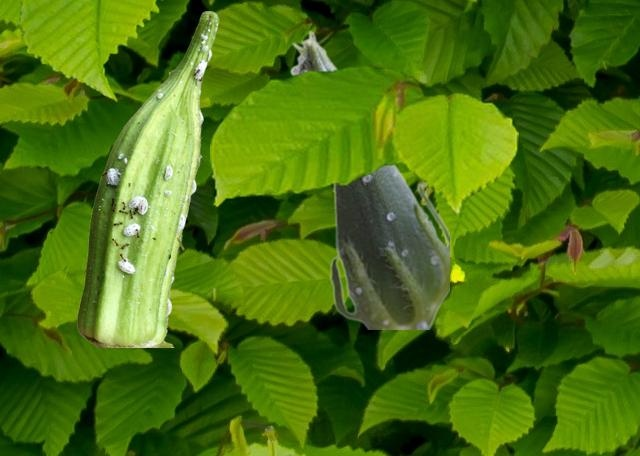okra: (289, 30, 448, 328), (77, 11, 218, 346)
